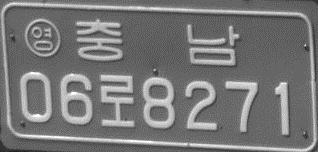0: (18, 70, 53, 124)
1: (265, 81, 299, 135)
2: (183, 80, 218, 131)
6: (59, 73, 94, 126)
7: (224, 79, 258, 133)
8: (141, 75, 176, 129)
로: (99, 73, 137, 128)
영: (23, 17, 61, 59)
충남_D: (74, 18, 239, 66)
